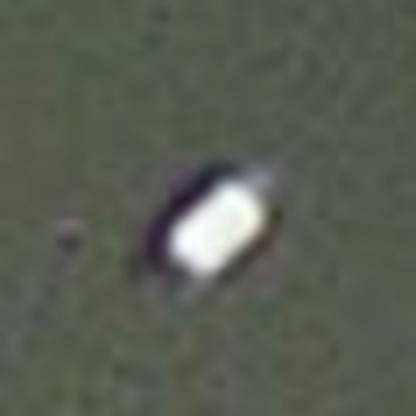ship: (130, 146, 308, 301)
